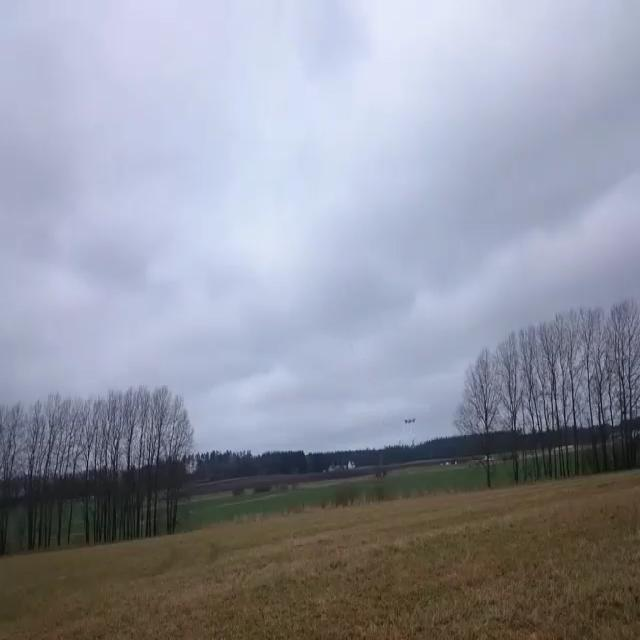Drone: (398, 414, 421, 430)
